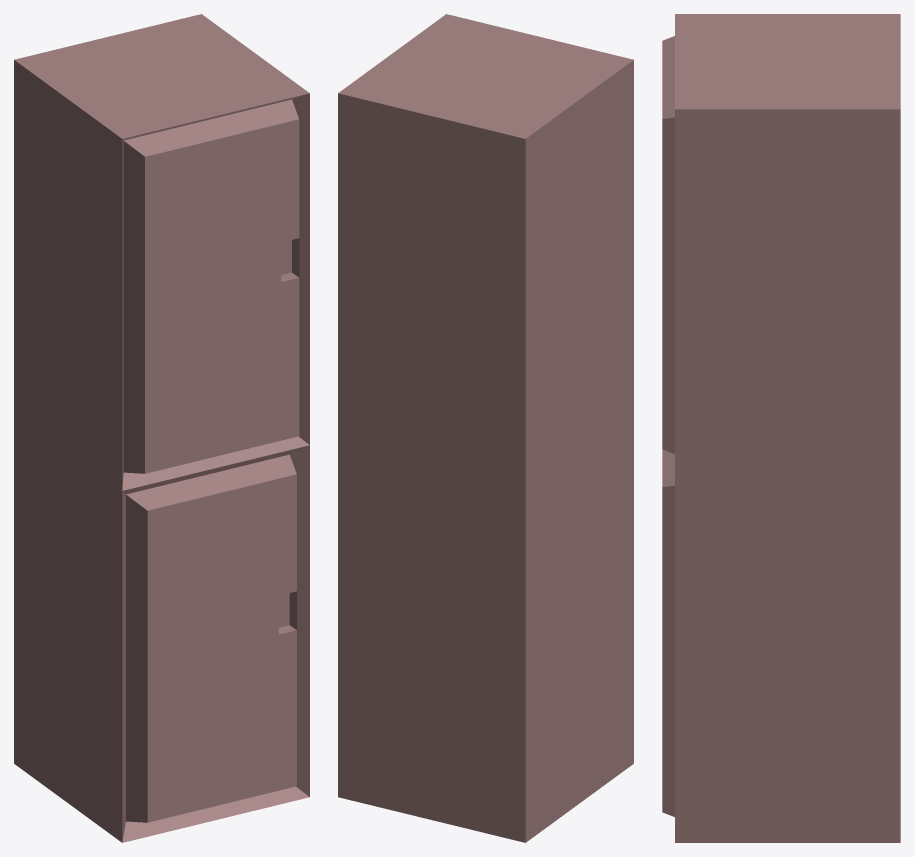
The model's file is LocerMod.fbx.
3 views of the same model, side by side, from view 1: azimuth 30°, elevation 25°; view 2: azimuth 150°, elevation 25°; view 3: azimuth 270°, elevation 25° (orthographic). The views are drawn at different scales.
Parts seen in each view (by area): view 1: pCube1; view 2: pCube1; view 3: pCube1.
Boxes of the visible parts, <box> form: pCube1: <box>14,14,309,842</box>; pCube1: <box>338,14,633,842</box>; pCube1: <box>662,14,900,842</box>.
Size of the model in its own units: 78.5 by 282 by 82.88.
